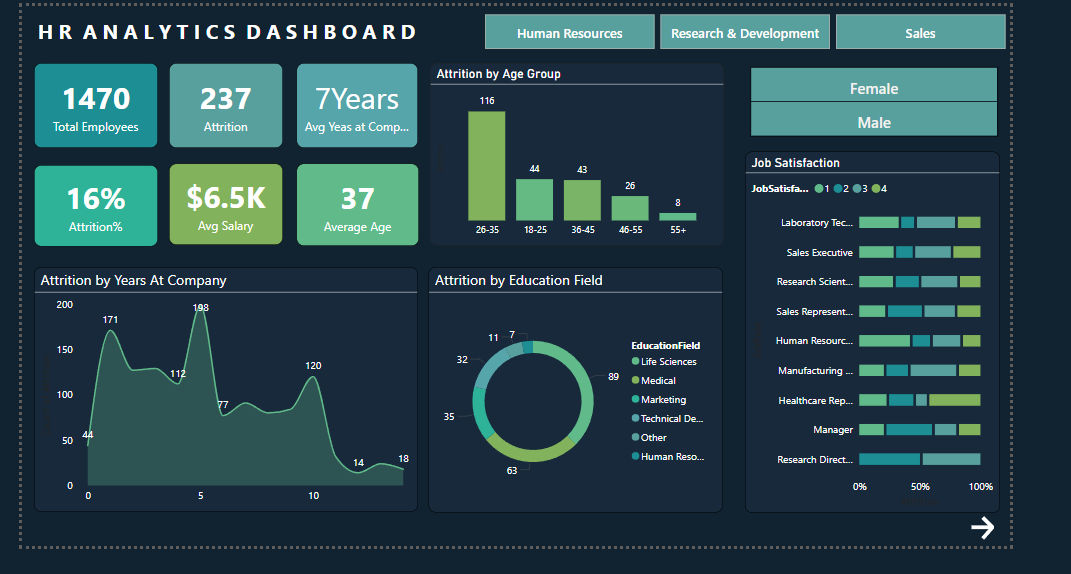

This screenshot's page, from the dashboard's own definition file:
{"tool":"powerbi","page":{"name":"Page 1","canvas":[1317,720],"ordinal":0},"visuals":[{"type":"card","title":"Total Employees","fields":{"Values":["Measures (2).employee_count"]},"box":[15,75,165,113.3],"z":0},{"type":"areaChart","title":"Attrition by Years At Company","fields":{"Y":["CountNonNull(HR_Analytics.Attrition)"],"Category":["HR_Analytics.YearsAtCompany"]},"box":[15,348.3,511.7,326.7],"z":1000},{"type":"card","fields":{"Values":["Measures (2).Avg_Years_at_Company"]},"box":[365,75,161.7,113.3],"z":2000},{"type":"card","fields":{"Values":["Measures (2).Attrition%"]},"box":[15,211.7,165,108.3],"z":3000},{"type":"card","fields":{"Values":["Measures (2).AvgSalary"]},"box":[196.7,210,151.7,108.3],"z":4000},{"type":"card","fields":{"Values":["Measures (2).AverageAge"]},"box":[365,210,163.3,110],"z":5000},{"type":"donutChart","title":"Attrition by Education Field","fields":{"Y":["Measures (2).Attrition"],"Category":["HR_Analytics.EducationField"]},"box":[542.5,347.5,392.5,327.5],"z":6000},{"type":"columnChart","title":"Attrition by Age Group","fields":{"Category":["HR_Analytics.AgeGroup"],"Y":["Measures (2).employee_attrition"]},"box":[543.3,75,391.7,243.3],"z":7000},{"type":"hundredPercentStackedBarChart","title":"Job Satisfaction","fields":{"Y":["Measures (2).employee_attrition"],"Series":["HR_Analytics.JobSatisfaction"],"Category":["HR_Analytics.JobRole"]},"box":[963.3,193.3,340,481.7],"z":8000},{"type":"card","fields":{"Values":["Measures (2).employee_attrition"]},"box":[196.7,75,151.7,113.3],"z":9000},{"type":"advancedSlicerVisual","fields":{"Values":["HR_Analytics.Gender"]},"box":[965,75,340,103.3],"z":10000},{"type":"advancedSlicerVisual","fields":{"Values":["HR_Analytics.Department"]},"box":[611.7,5,705,56.7],"z":11000},{"type":"textbox","box":[15,10,546.7,51.7],"z":12000},{"type":"actionButton","box":[1260,676.7,56.7,40],"z":13000}]}

Visuals, with their boxes in screenshot pixels (x1, y1, x2, y2), scaled from the page's 1317x720 canvas onto the 1071x574 screenshot:
"Total Employees" card: <bbox>12, 60, 146, 150</bbox>
"Attrition by Years At Company" areaChart: <bbox>12, 278, 428, 538</bbox>
card - Measures (2).Avg_Years_at_Company: <bbox>297, 60, 428, 150</bbox>
card - Measures (2).Attrition%: <bbox>12, 169, 146, 255</bbox>
card - Measures (2).AvgSalary: <bbox>160, 167, 283, 254</bbox>
card - Measures (2).AverageAge: <bbox>297, 167, 430, 255</bbox>
"Attrition by Education Field" donutChart: <bbox>441, 277, 760, 538</bbox>
"Attrition by Age Group" columnChart: <bbox>442, 60, 760, 254</bbox>
"Job Satisfaction" hundredPercentStackedBarChart: <bbox>783, 154, 1060, 538</bbox>
card - Measures (2).employee_attrition: <bbox>160, 60, 283, 150</bbox>
advancedSlicerVisual - HR_Analytics.Gender: <bbox>785, 60, 1061, 142</bbox>
advancedSlicerVisual - HR_Analytics.Department: <bbox>497, 4, 1070, 49</bbox>
textbox: <bbox>12, 8, 457, 49</bbox>
actionButton: <bbox>1025, 539, 1070, 571</bbox>
